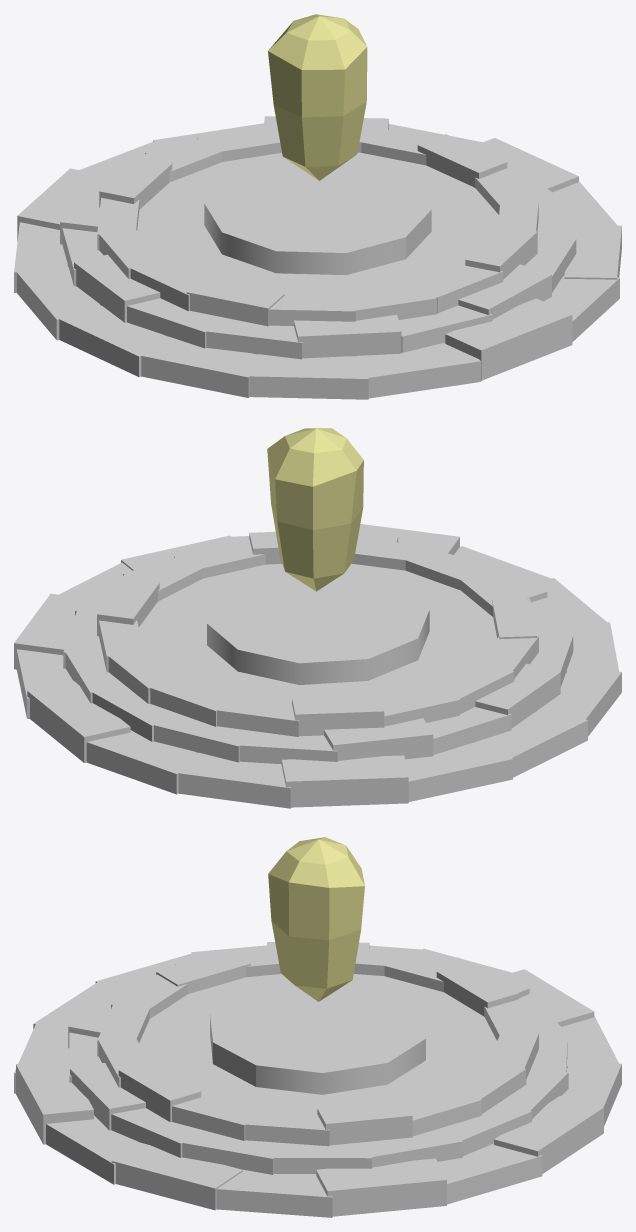
The model's file is Altar.fbx.
3 views of the same model, one above another, from view 1: azimuth 30°, elevation 25°; view 2: azimuth 150°, elevation 25°; view 3: azimuth 270°, elevation 25° (orthographic).
Visible parts, largest first — view 1: Altar, Crystal_Yellow; view 2: Altar, Crystal_Yellow; view 3: Altar, Crystal_Yellow.
Part boxes in pixels (<box>): Altar: <box>14,116,621,399</box>; Crystal_Yellow: <box>268,14,367,180</box>; Altar: <box>14,524,621,808</box>; Crystal_Yellow: <box>267,428,363,591</box>; Altar: <box>14,942,621,1217</box>; Crystal_Yellow: <box>268,837,364,1001</box>.
Bounding box in the file's own units: 31.53 × 14.7 × 31.54.
